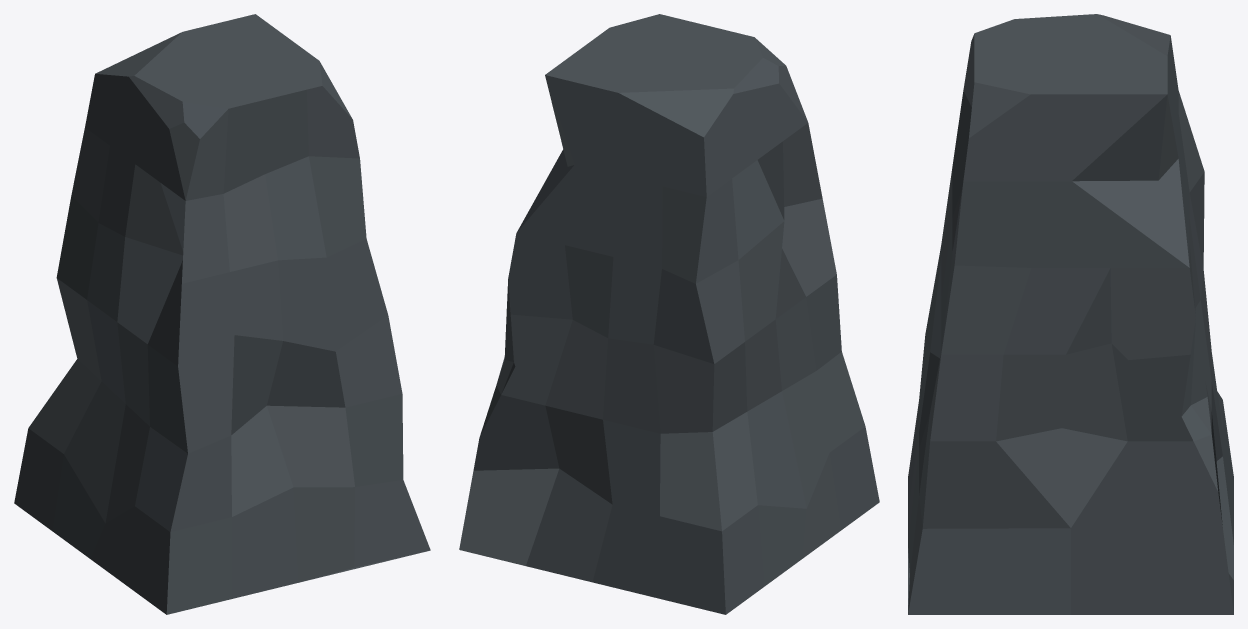
Rendered from Clif_2.fbx.
3 renders of one model, left to right at view 1: azimuth 30°, elevation 25°; view 2: azimuth 150°, elevation 25°; view 3: azimuth 270°, elevation 25°, orthographic. The views are drawn at different scales.
Parts seen in each view (by area): view 1: Cube.001; view 2: Cube.001; view 3: Cube.001.
Boxes of the visible parts, <box> form: Cube.001: <box>14,14,430,614</box>; Cube.001: <box>459,14,879,614</box>; Cube.001: <box>908,14,1233,614</box>.
Bounding box in the file's own units: 325 × 542 × 325.
Materials: 1 (1 with a texture image).
